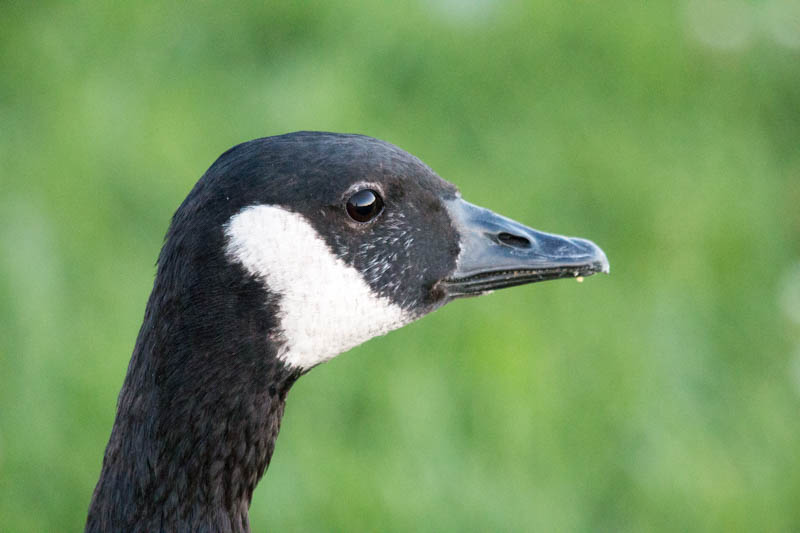goose-head: (153, 130, 613, 375)
